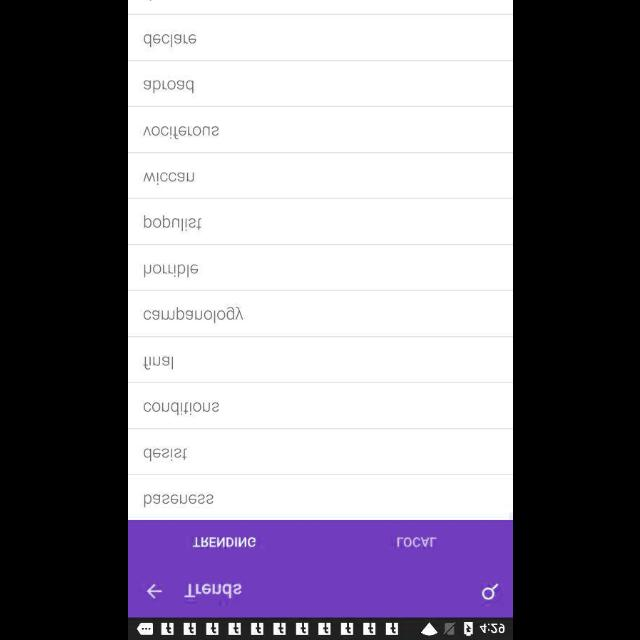icon: (482, 582, 498, 600), (146, 582, 162, 598)
text: (144, 306, 242, 324), (143, 126, 219, 140), (143, 401, 219, 415), (144, 214, 202, 232), (184, 582, 242, 600), (144, 493, 212, 507), (191, 536, 255, 548), (144, 264, 198, 278), (142, 34, 195, 48), (142, 80, 194, 94), (142, 171, 194, 185), (144, 447, 188, 461), (396, 536, 436, 548), (142, 356, 174, 370)
uppertaskbar: (128, 617, 512, 639)
